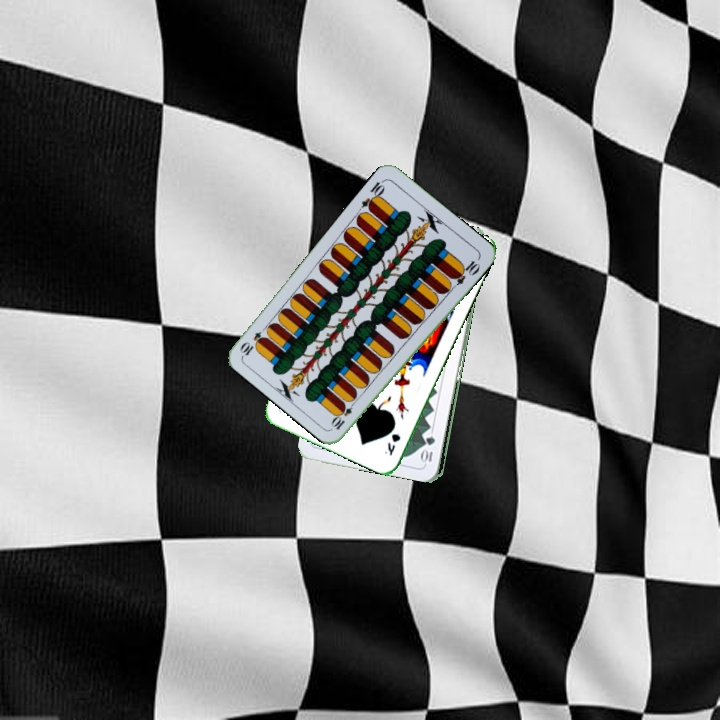E10: (357, 176, 388, 214), (328, 396, 359, 432)
G10: (420, 431, 438, 466)
GK: (380, 428, 403, 458)
